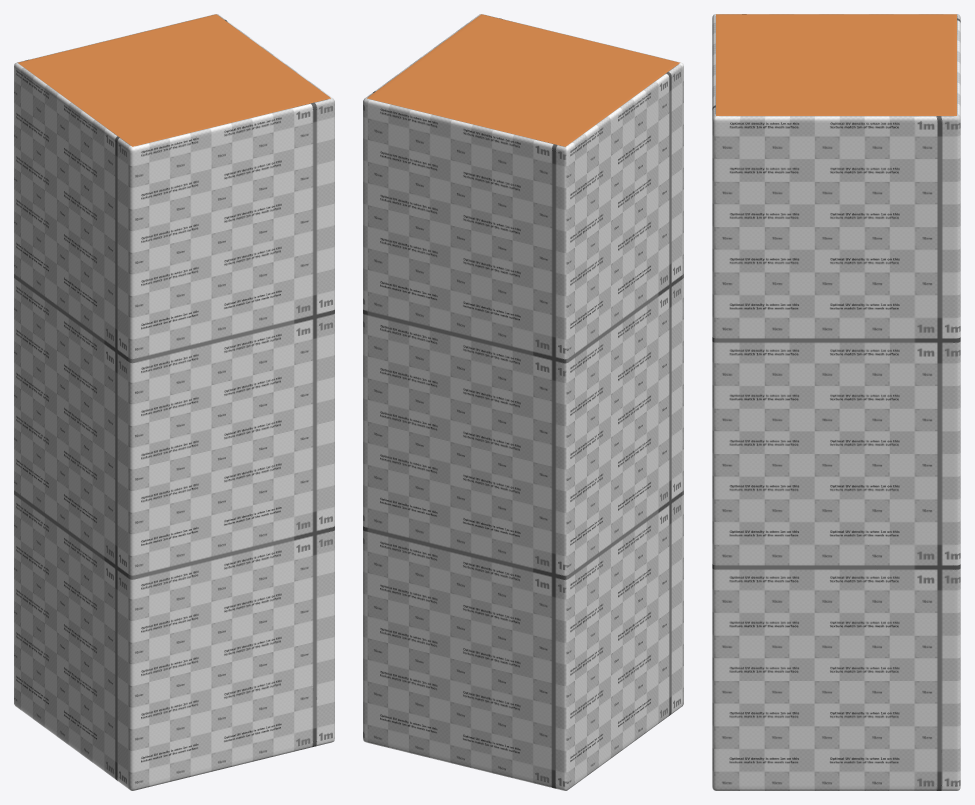
The model's file is [arch] Pillar 1x1x3m.fbx.
The picture shows the model from 3 angles, left to right: view 1: azimuth 30°, elevation 25°; view 2: azimuth 150°, elevation 25°; view 3: azimuth 270°, elevation 25°; orthographic projection. The views are drawn at different scales.
Parts seen in each view (by area): view 1: [arch] Pillar 1x1x3m; view 2: [arch] Pillar 1x1x3m; view 3: [arch] Pillar 1x1x3m.
Boxes of the visible parts, x1=… form: [arch] Pillar 1x1x3m: x1=14, y1=14, x2=334, y2=790; [arch] Pillar 1x1x3m: x1=363, y1=14, x2=683, y2=790; [arch] Pillar 1x1x3m: x1=712, y1=14, x2=960, y2=790.
Size of the model in its own units: 100 by 300 by 100.
